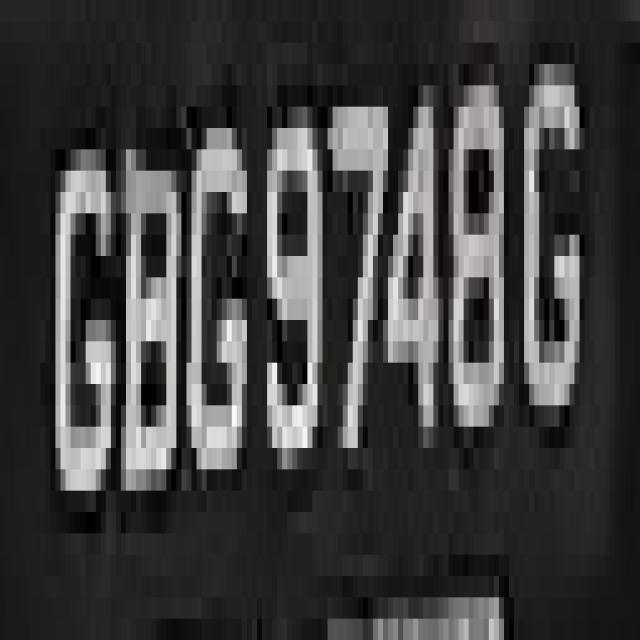4: (378, 64, 438, 512)
7: (302, 43, 388, 512)
8: (444, 21, 519, 534)
9: (262, 42, 333, 554)
B: (106, 64, 186, 533)
G: (176, 43, 267, 533), (40, 85, 121, 555), (504, 43, 590, 448)
